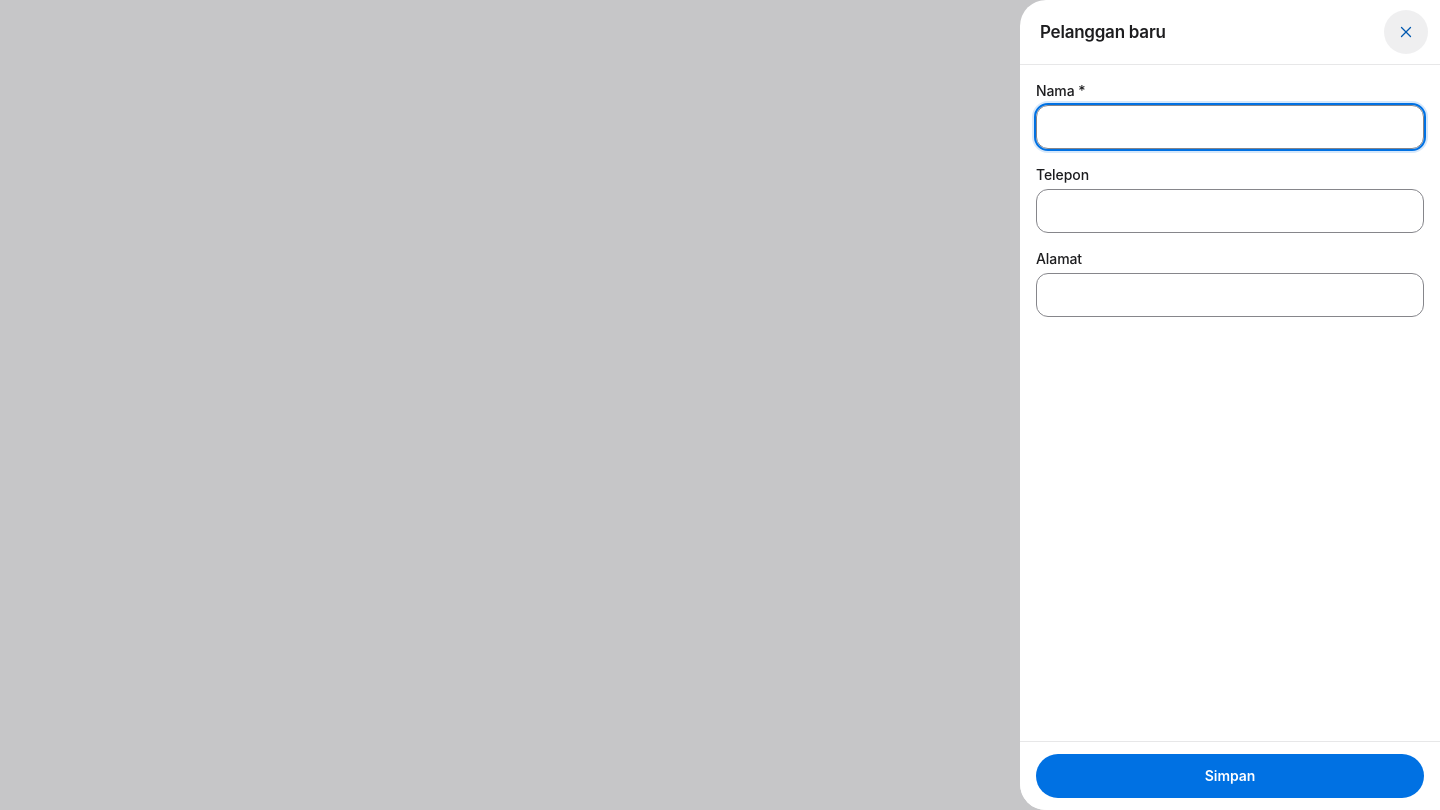
Test: PelangganSheet › shows a visible error when saving fails
Type "Budi" into the field labelled "Nama". click: (1230, 127)
box: [1036,105,1424,149]
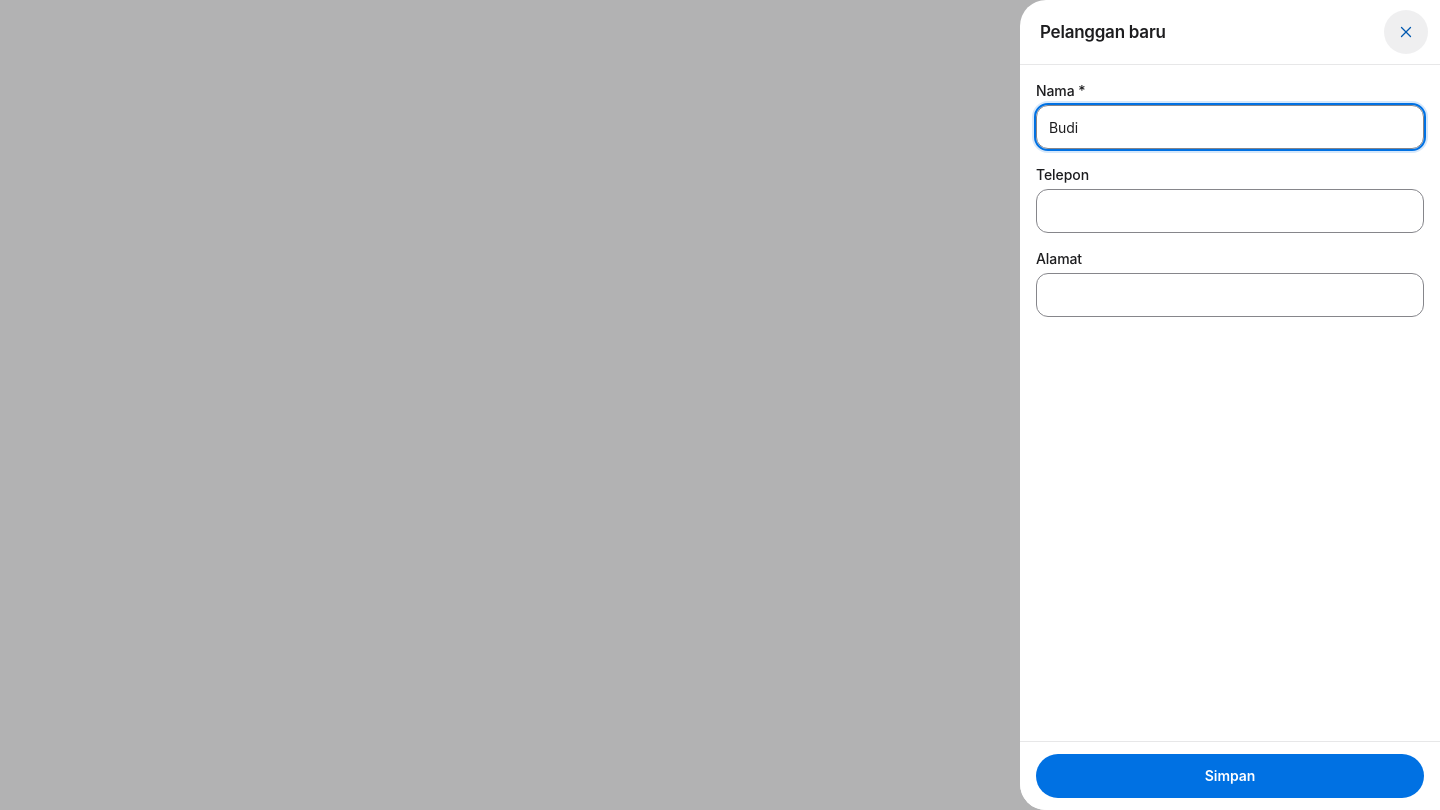
Click the button "Simpan". click: (1230, 776)
box: [1036,754,1424,798]
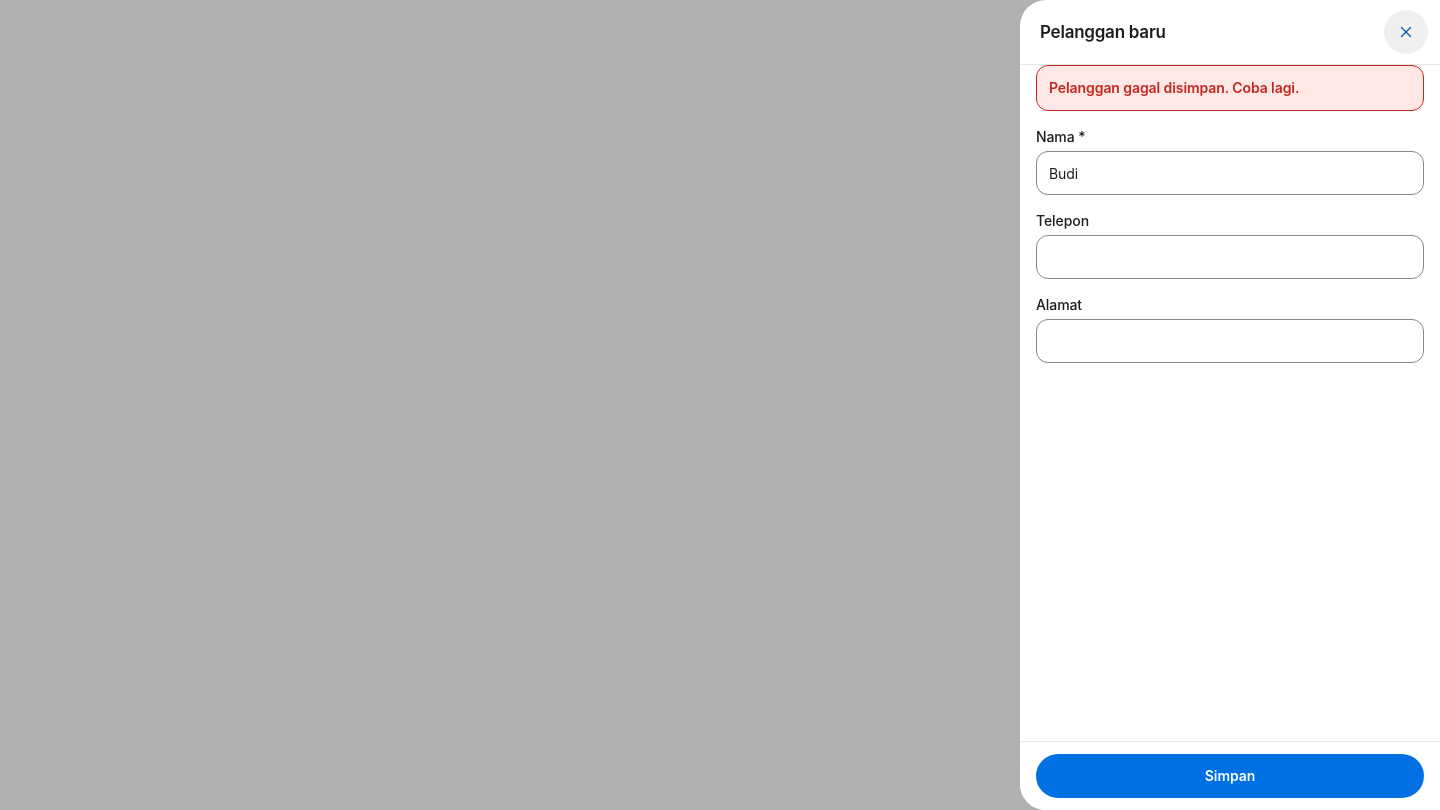
Result: the message reads "Pelanggan gagal disimpan. Coba lagi." at [1049,79,1299,96]
